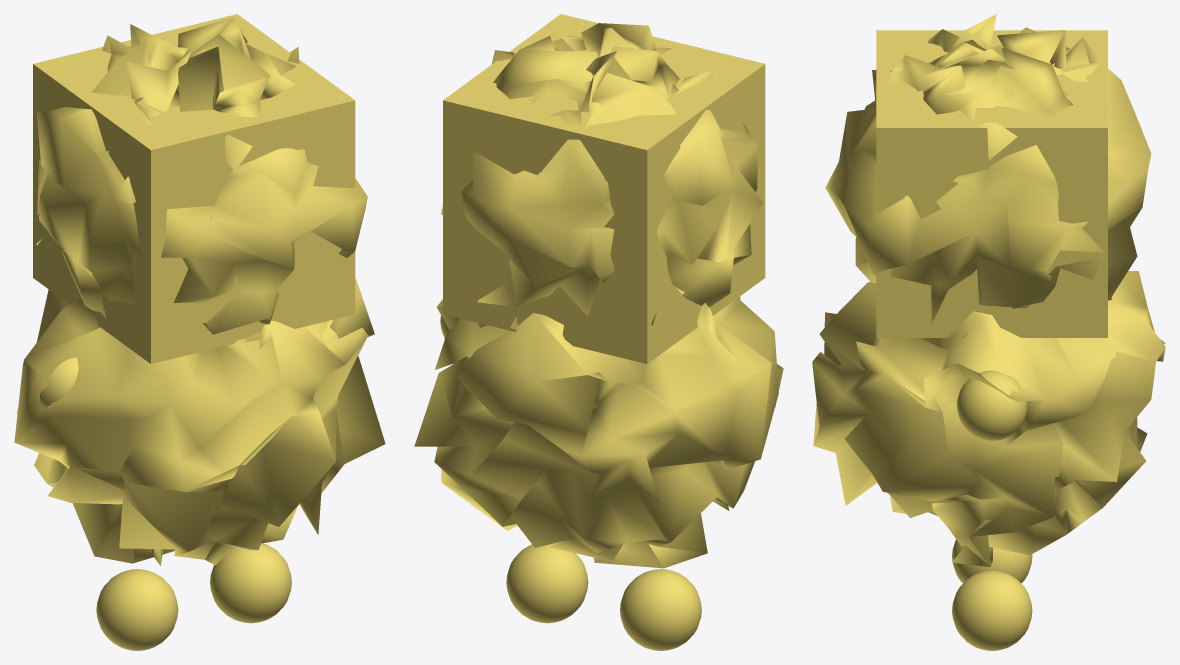
The model's file is clay_blocky_noob.glb.
3 views of the same model, side by side, from view 1: azimuth 30°, elevation 25°; view 2: azimuth 150°, elevation 25°; view 3: azimuth 270°, elevation 25° (orthographic).
Visible parts, largest first — view 1: cube_head; view 2: cube_head; view 3: cube_head.
Boxes of the visible parts, x1,y1,x2,y2 form: cube_head: (14, 14, 385, 650); cube_head: (414, 14, 783, 650); cube_head: (812, 14, 1165, 650).
Size of the model in its own units: 1.15 by 2 by 1.1.
